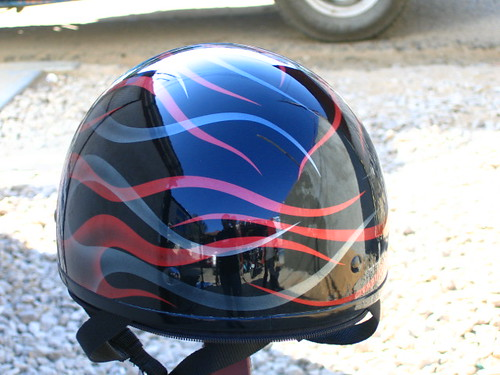helmet: (29, 21, 410, 338)
